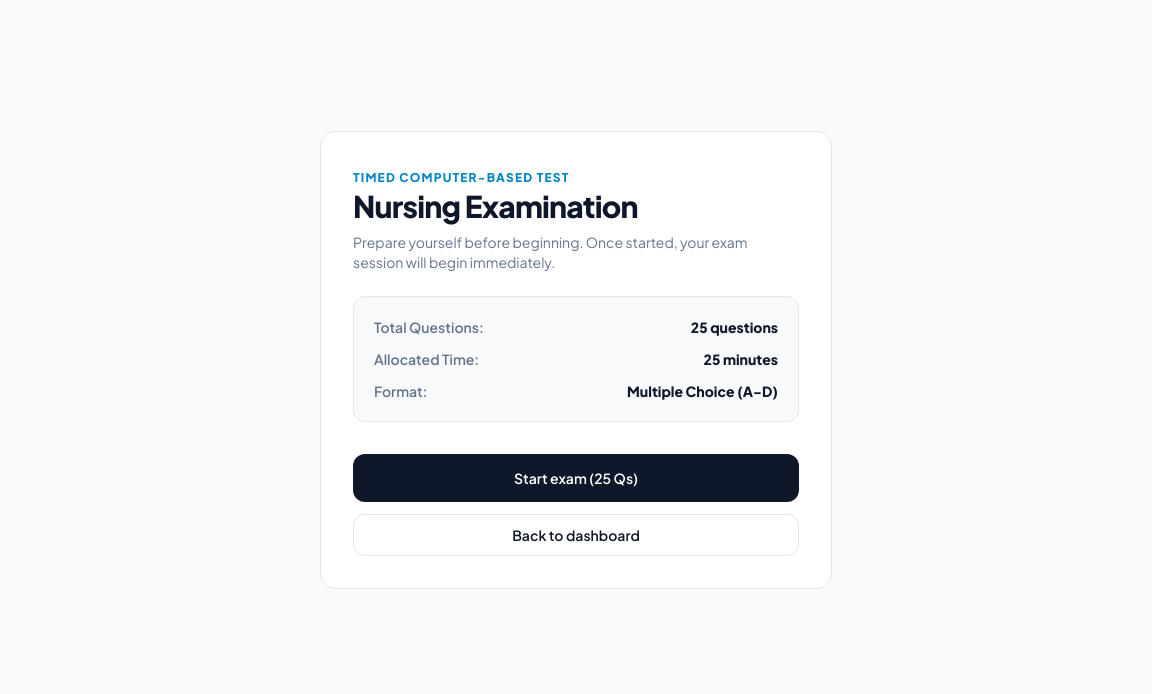
it: ExamPage component › timer reaches 0 and auto-submits once without confirm dialog
Later steps or results of the test are not shown.
// Start exam
Click the button "Start exam (25 Qs)" at (576, 478), box x1=353 y1=454 x2=799 y2=502
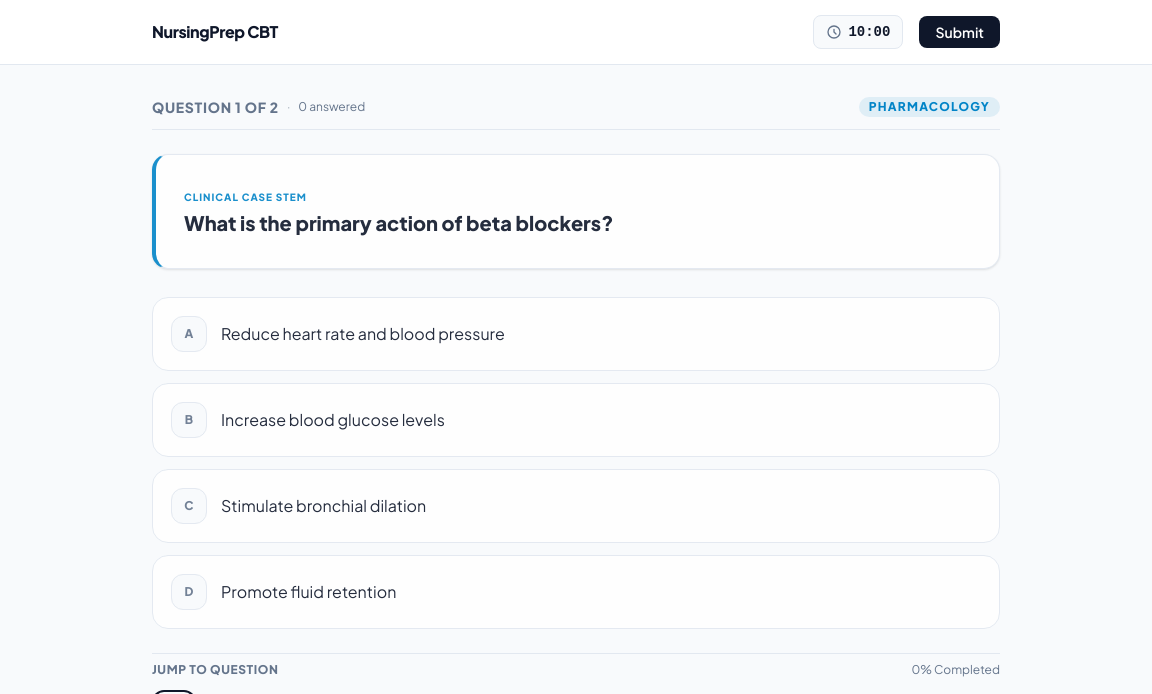
Expected: the text "Question 1 of 2" is shown, x1=152 y1=97 x2=279 y2=117
